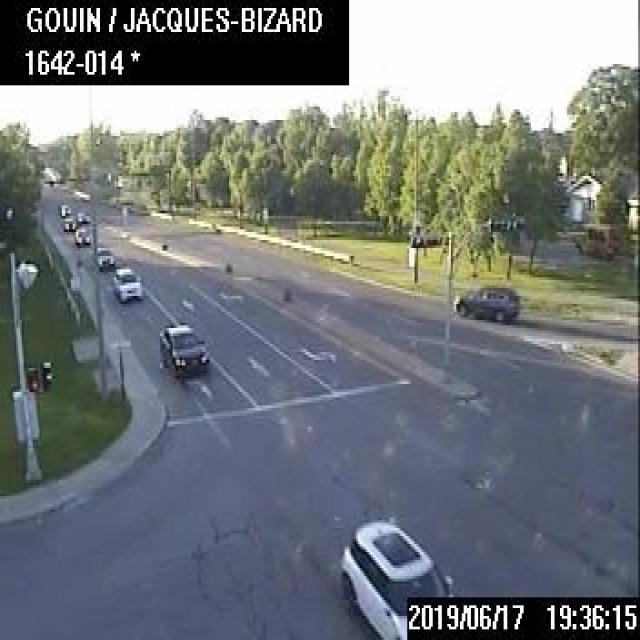bus: (572, 221, 620, 258)
vehicle: (339, 519, 454, 637), (158, 321, 206, 378), (452, 283, 518, 322), (112, 266, 141, 301), (95, 244, 114, 268), (73, 226, 88, 245), (74, 210, 88, 222), (62, 216, 74, 229), (59, 202, 70, 215)
